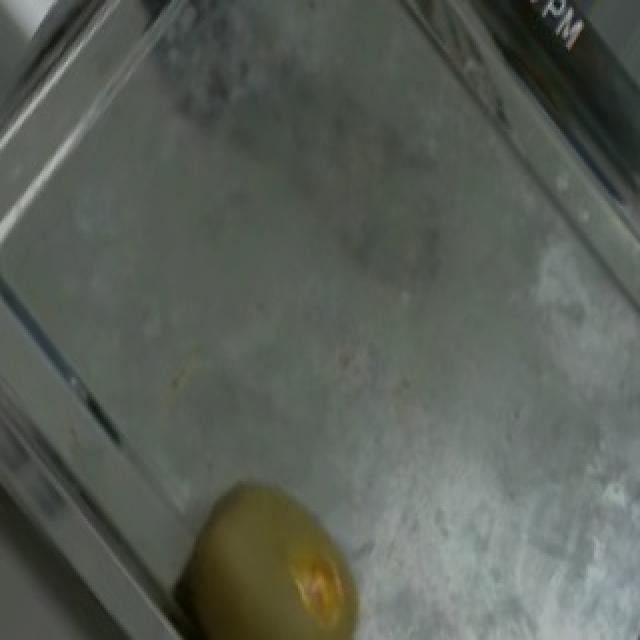Fruit: (144, 459, 396, 640)
